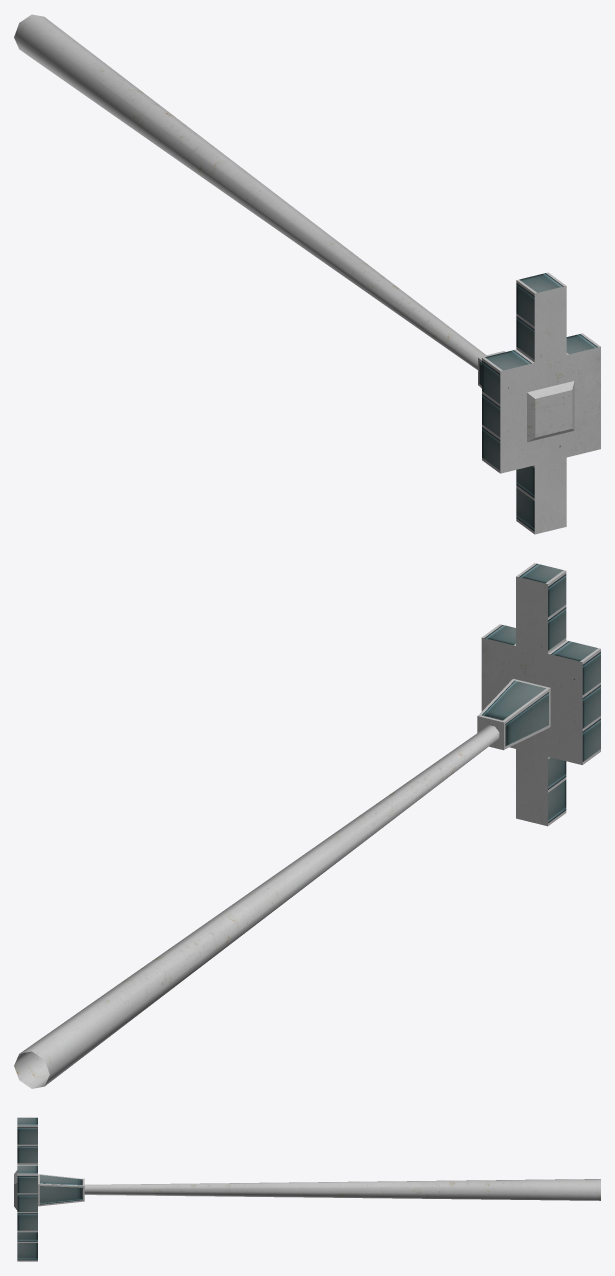
File: mp_nuketown_2020_light_post_LOD0.obj
3 renders of one model, top to bottom at view 1: azimuth 30°, elevation 25°; view 2: azimuth 150°, elevation 25°; view 3: azimuth 270°, elevation 25°, orthographic. The views are drawn at different scales.
Visible parts, largest first — view 1: jun_art_metal_white, glass_clear_wall_opaque_white; view 2: jun_art_metal_white, glass_clear_wall_opaque_white; view 3: jun_art_metal_white, glass_clear_wall_opaque_white.
Part boxes in pixels (x1,y1,x2,y2): jun_art_metal_white: (14,14,600,534); glass_clear_wall_opaque_white: (479,273,597,531); jun_art_metal_white: (14,563,600,1088); glass_clear_wall_opaque_white: (482,563,600,823); jun_art_metal_white: (14,1117,600,1261); glass_clear_wall_opaque_white: (17,1118,82,1260).
Size of the model in its own units: 96.52 by 221 by 865.
